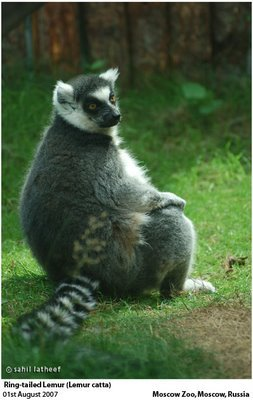cat: (8, 64, 218, 355)
